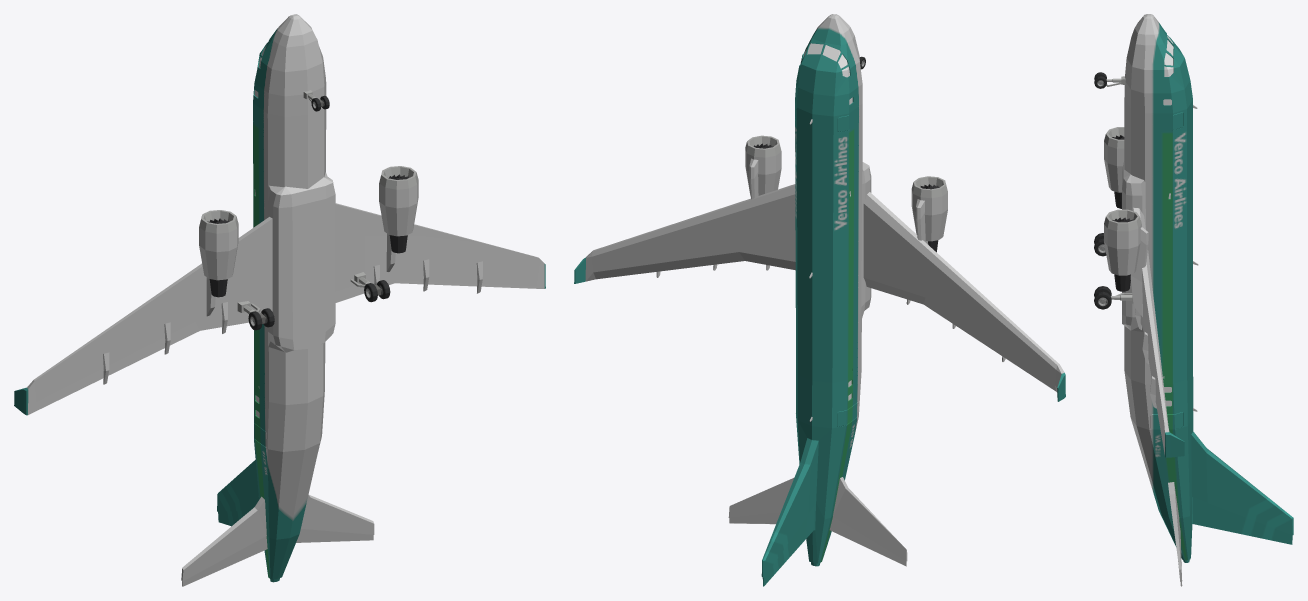
Rendered from SM_Vehicle_Air_Aircraft_Passenger.fbx.
3 views of the same model, side by side, from view 1: azimuth 30°, elevation 25°; view 2: azimuth 150°, elevation 25°; view 3: azimuth 270°, elevation 25° (orthographic). The views are drawn at different scales.
Parts seen in each view (by area): view 1: SM_Vehicle_Air_Aircraft_Passenger; view 2: SM_Vehicle_Air_Aircraft_Passenger; view 3: SM_Vehicle_Air_Aircraft_Passenger, SM_Vehicle_Air_Aircraft_Passenger_Glass, SM_Vehicle_Air_Aircraft_Passenger_Door_RL, SM_Vehicle_Air_Aircraft_Passenger_LandingGear_RL_Wheel.
Boxes of the visible parts, x1,y1,x2,y2 form: SM_Vehicle_Air_Aircraft_Passenger: (14, 14, 545, 586); SM_Vehicle_Air_Aircraft_Passenger: (574, 14, 1065, 586); SM_Vehicle_Air_Aircraft_Passenger: (1104, 14, 1293, 586); SM_Vehicle_Air_Aircraft_Passenger_Glass: (1163, 36, 1173, 406); SM_Vehicle_Air_Aircraft_Passenger_Door_RL: (1150, 412, 1182, 429); SM_Vehicle_Air_Aircraft_Passenger_LandingGear_RL_Wheel: (1094, 286, 1111, 309).
Size of the model in its own units: 33.52 by 35.47 by 11.75.
